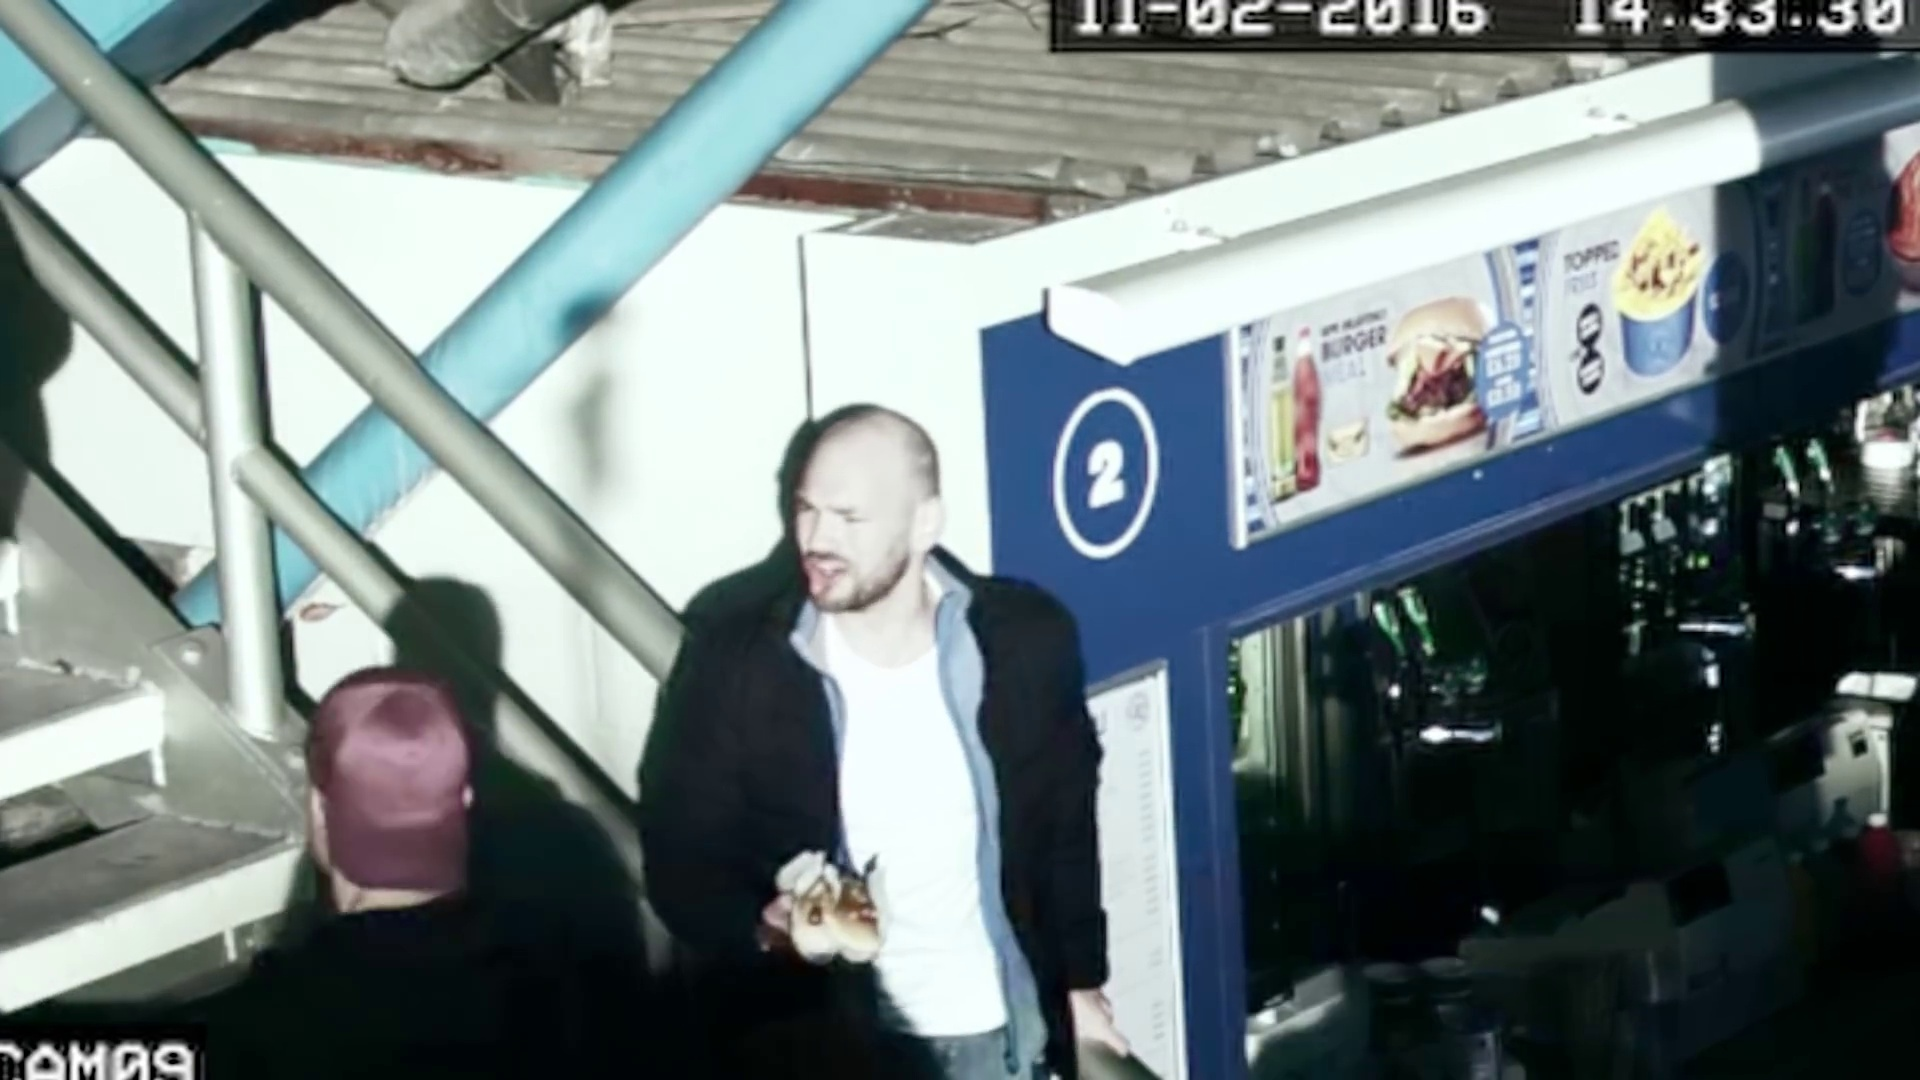face: (786, 461, 908, 606)
